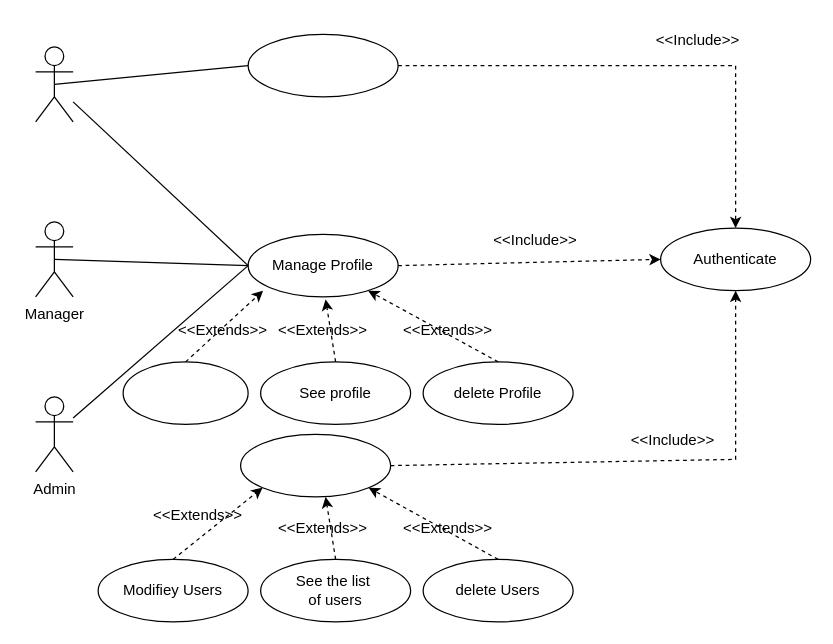
The diagram is 833 pixels wide and 644 high, and some of its shapes have lost their labels. Each missing label, with the centre of its shape:
"Employee" belongs at point (53, 84).
"Manage Users" belongs at point (315, 465).
"Modifiey Profile" belongs at point (185, 392).
"Signup" belongs at point (322, 65).
